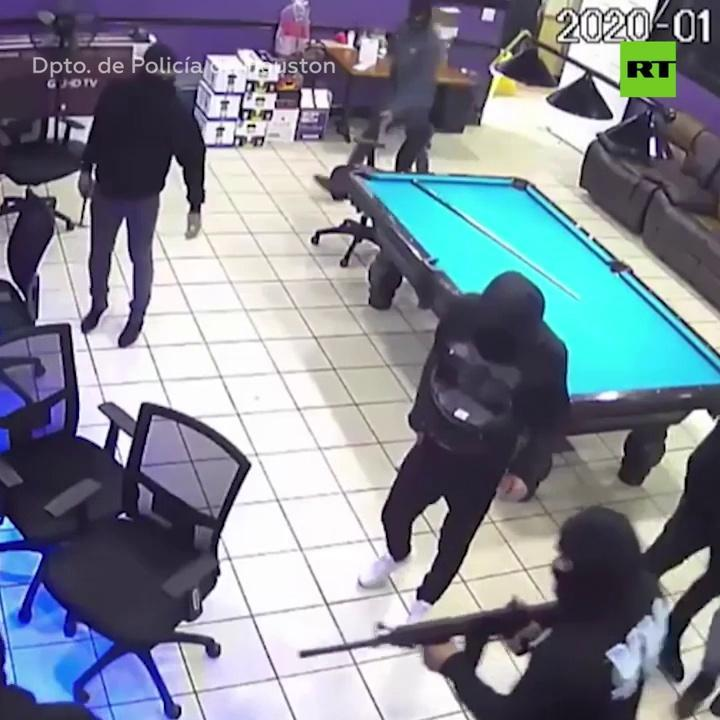Long guns: (285, 592, 560, 700)
